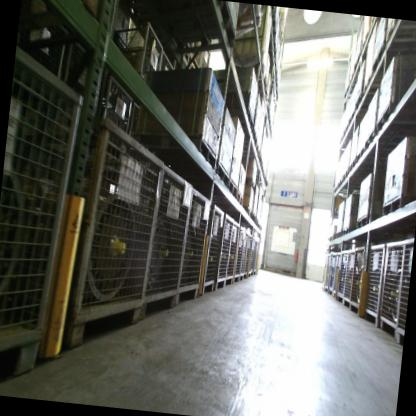pallet: (132, 124, 221, 178), (20, 0, 106, 34), (172, 159, 231, 192), (375, 95, 416, 136), (364, 126, 416, 158), (197, 183, 245, 207), (383, 18, 416, 51), (222, 103, 258, 133), (198, 175, 239, 201), (380, 190, 414, 219), (370, 42, 393, 78), (347, 156, 386, 177), (341, 167, 380, 185), (354, 145, 386, 165), (234, 126, 260, 150), (250, 73, 272, 99), (335, 178, 373, 193), (223, 202, 252, 218), (359, 73, 375, 101), (241, 138, 263, 158), (354, 213, 378, 231), (247, 154, 267, 171), (341, 224, 355, 239), (252, 169, 268, 182), (354, 91, 363, 112), (254, 178, 269, 188), (333, 229, 342, 242), (332, 185, 343, 194), (327, 232, 335, 243), (250, 211, 256, 222), (254, 216, 258, 227), (257, 223, 262, 231)
stillage: (0, 41, 95, 388), (43, 103, 170, 355), (134, 149, 195, 335), (171, 180, 215, 314), (108, 9, 167, 94), (79, 68, 137, 142), (377, 236, 406, 337), (198, 197, 226, 299), (360, 236, 389, 328), (393, 231, 413, 345), (213, 201, 236, 294), (135, 43, 179, 86), (348, 241, 367, 314), (127, 100, 155, 145), (224, 216, 241, 290), (342, 245, 357, 309), (336, 246, 350, 304), (232, 223, 245, 285), (238, 227, 249, 282), (332, 249, 343, 297), (243, 230, 252, 280), (322, 251, 333, 291), (327, 251, 337, 294), (246, 235, 255, 279), (251, 235, 261, 273), (250, 232, 257, 278)
